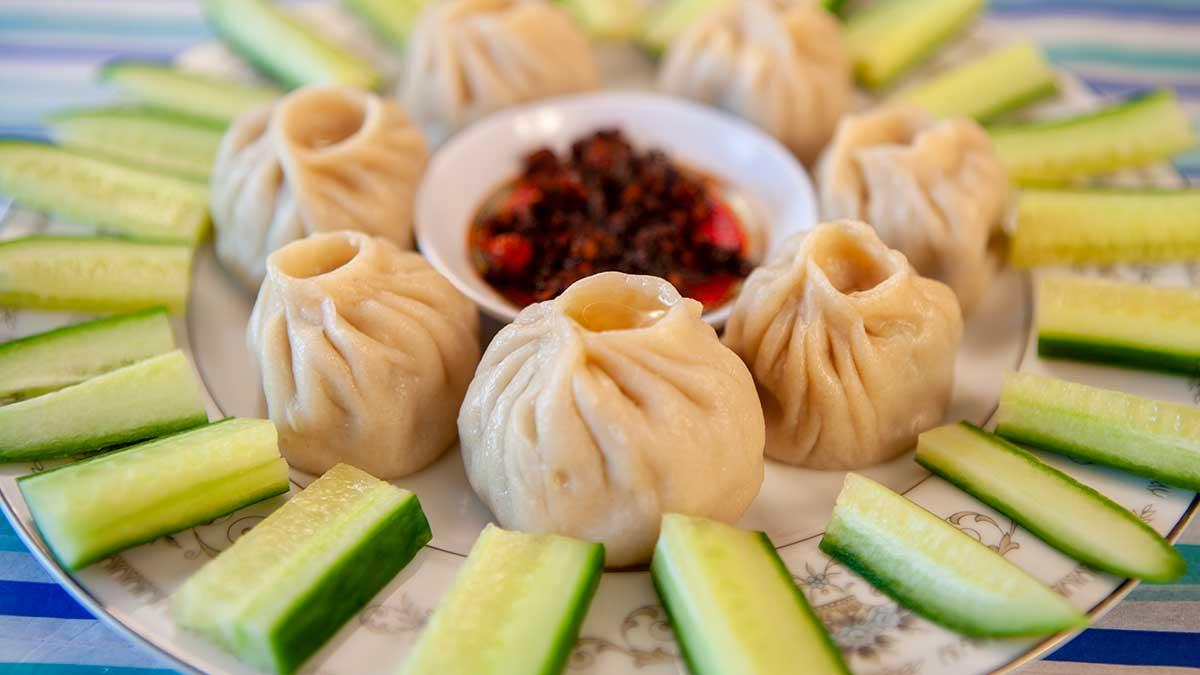momos: (457, 272, 764, 567), (724, 220, 963, 469), (246, 230, 480, 478), (211, 87, 427, 287), (816, 105, 1010, 313), (659, 0, 853, 164), (396, 0, 598, 144)
